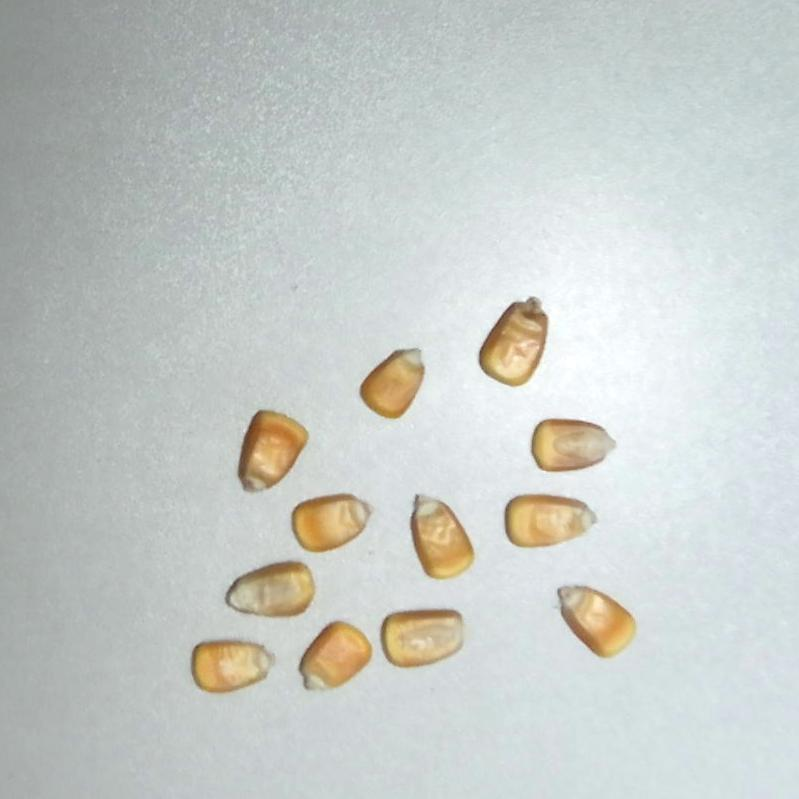corn: (544, 566, 645, 667), (473, 286, 565, 394), (288, 612, 380, 708), (226, 405, 313, 506), (397, 483, 481, 587), (354, 333, 437, 426), (287, 484, 380, 559), (378, 606, 468, 671), (224, 560, 316, 620), (504, 495, 597, 549), (531, 417, 617, 473), (192, 642, 272, 693)
